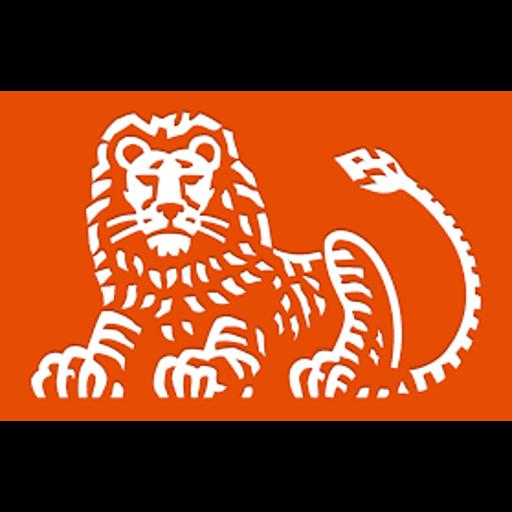ING: (0, 91, 512, 421)
